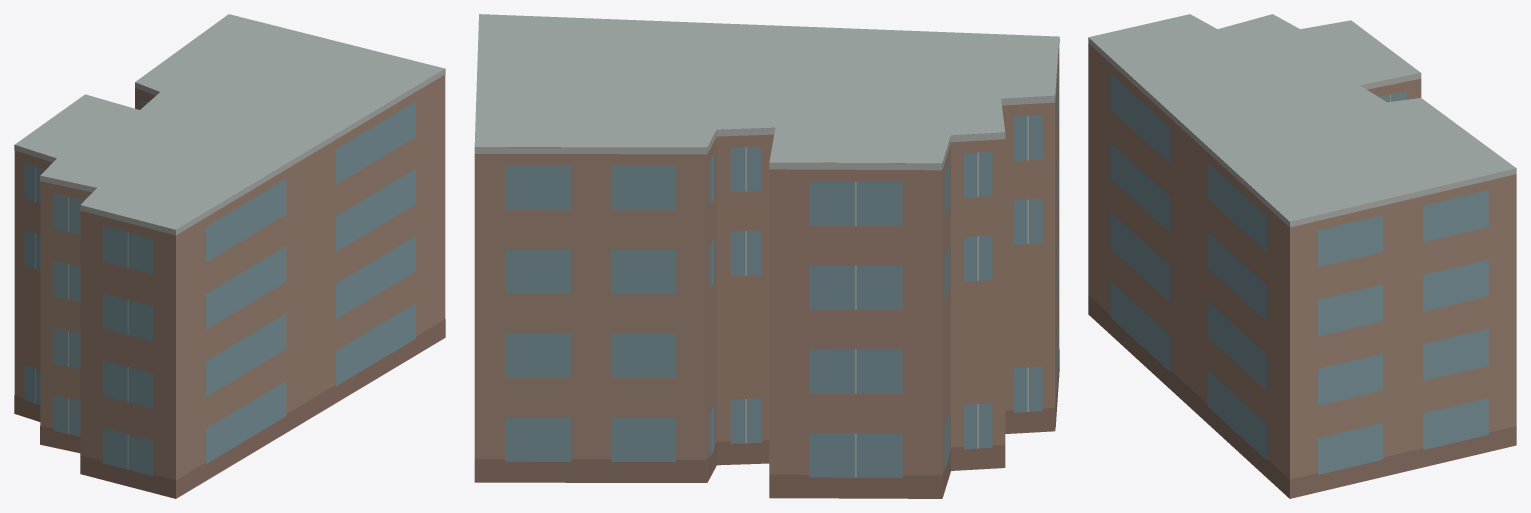
Rendered from survey-upis-32976567.glb.
The picture shows the model from 3 angles, left to right: view 1: azimuth 30°, elevation 25°; view 2: azimuth 150°, elevation 25°; view 3: azimuth 270°, elevation 25°; orthographic projection. The views are drawn at different scales.
Parts seen in each view (by area): view 1: survey-upis-32976567.tmp; view 2: survey-upis-32976567.tmp; view 3: survey-upis-32976567.tmp.
Boxes of the visible parts, left/top/right/bottom form: survey-upis-32976567.tmp: left=14, top=14, right=445, bottom=498; survey-upis-32976567.tmp: left=474, top=14, right=1059, bottom=498; survey-upis-32976567.tmp: left=1088, top=14, right=1516, bottom=498.
Size of the model in its own units: 18.98 by 11.79 by 16.53.
